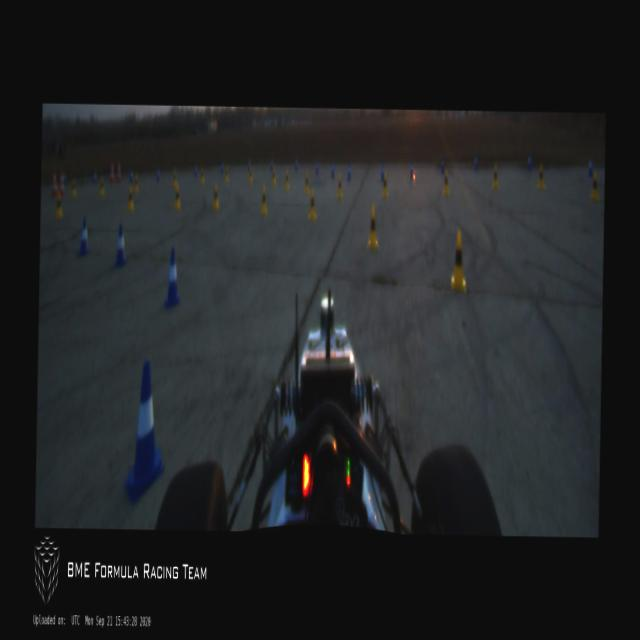blue_cone: (123, 362, 165, 504), (162, 249, 180, 308), (114, 222, 127, 266), (77, 218, 90, 255), (346, 160, 351, 182), (128, 166, 134, 182), (473, 152, 478, 170), (155, 165, 160, 181), (380, 162, 384, 180), (330, 160, 334, 178), (92, 166, 96, 184), (293, 156, 298, 170), (219, 159, 224, 173), (440, 156, 444, 173), (588, 160, 592, 176), (246, 156, 250, 171), (314, 160, 318, 174), (528, 155, 532, 169), (410, 160, 413, 178), (193, 163, 197, 175)
large_orange_cone: (51, 168, 58, 198), (108, 158, 115, 186), (115, 160, 122, 184), (59, 169, 64, 197)
yellow_cone: (450, 230, 468, 292), (366, 207, 378, 250), (589, 170, 600, 203), (54, 190, 64, 218), (536, 163, 546, 190), (308, 191, 317, 220), (212, 181, 220, 212), (260, 186, 267, 215), (442, 170, 450, 194), (173, 186, 180, 212), (127, 185, 134, 211), (336, 176, 343, 200), (492, 165, 498, 192), (70, 177, 78, 197), (98, 176, 105, 198), (382, 174, 388, 197), (304, 172, 310, 194), (284, 168, 290, 190), (172, 168, 178, 187), (271, 165, 276, 187), (248, 166, 254, 184), (224, 164, 228, 183), (134, 175, 138, 194), (200, 167, 204, 184)
